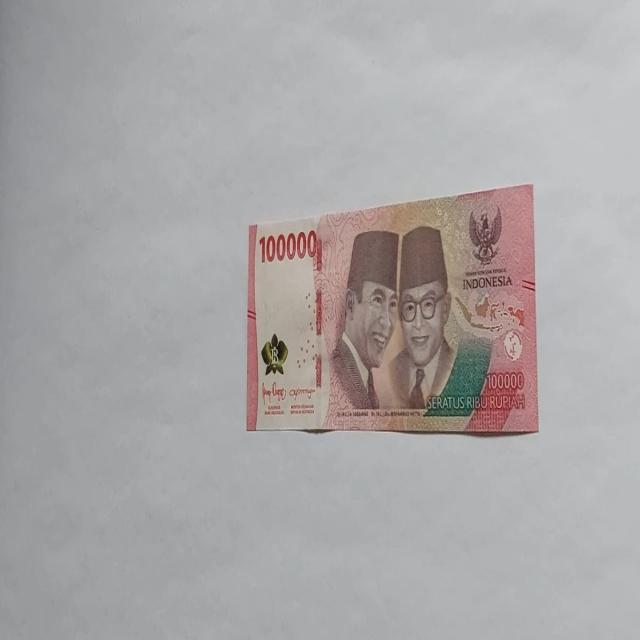seratus ribu rupiah: (246, 182, 538, 436), (387, 224, 458, 411)
